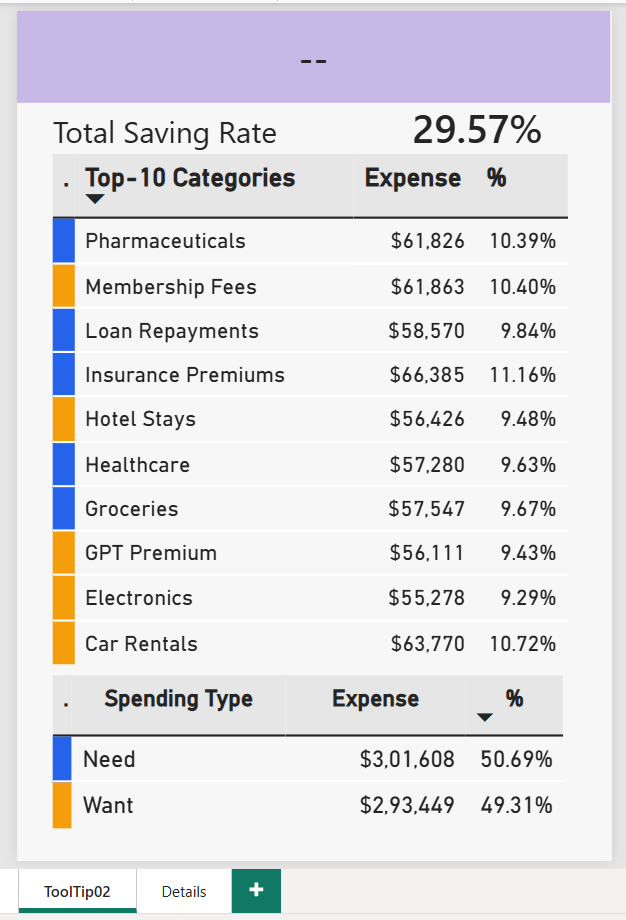

Layout of this report page (visuals, bound fields, positions):
{"tool":"powerbi","page":{"name":"ToolTip02","canvas":[280,400],"ordinal":3},"visuals":[{"type":"tableEx","title":"Top 10 Expenses by Category","fields":{"Values":["Category Table.Highlight","Category Table.Category","1DAX_Calaculation.Total Expense","1DAX_Calaculation.PCT GrandTotal"]},"box":[0,52.7,281.3,272],"z":0},{"type":"tableEx","title":"Top 10 Expenses by Category","fields":{"Values":["Category Table.Highlight","Category Table.Spending Type","1DAX_Calaculation.Total Expense","1DAX_Calaculation.PCT GrandTotal"]},"box":[0,298,280.7,102],"z":1000},{"type":"textbox","box":[13,47.2,120.4,20.4],"z":2000},{"type":"cardVisual","fields":{"Data":["1DAX_Calaculation.Saving Rate (%)"]},"box":[169.7,41,107.4,26.6],"z":3000},{"type":"cardVisual","fields":{"Data":["1DAX_Calaculation.Title Cat Tooltip"]},"box":[0,0,279.4,43],"z":4000}]}

Visuals, with their boxes on the page's 280x400 design canvas (x1, y1, x2, y2). These are canvas units, not pixel positions in the 626x920 screenshot, which may show the page scaled, cropped or inside an application window:
"Top 10 Expenses by Category" tableEx: (0,53,281,325)
"Top 10 Expenses by Category" tableEx: (0,298,281,400)
textbox: (13,47,133,68)
cardVisual - 1DAX_Calaculation.Saving Rate (%): (170,41,277,68)
cardVisual - 1DAX_Calaculation.Title Cat Tooltip: (0,0,279,43)
